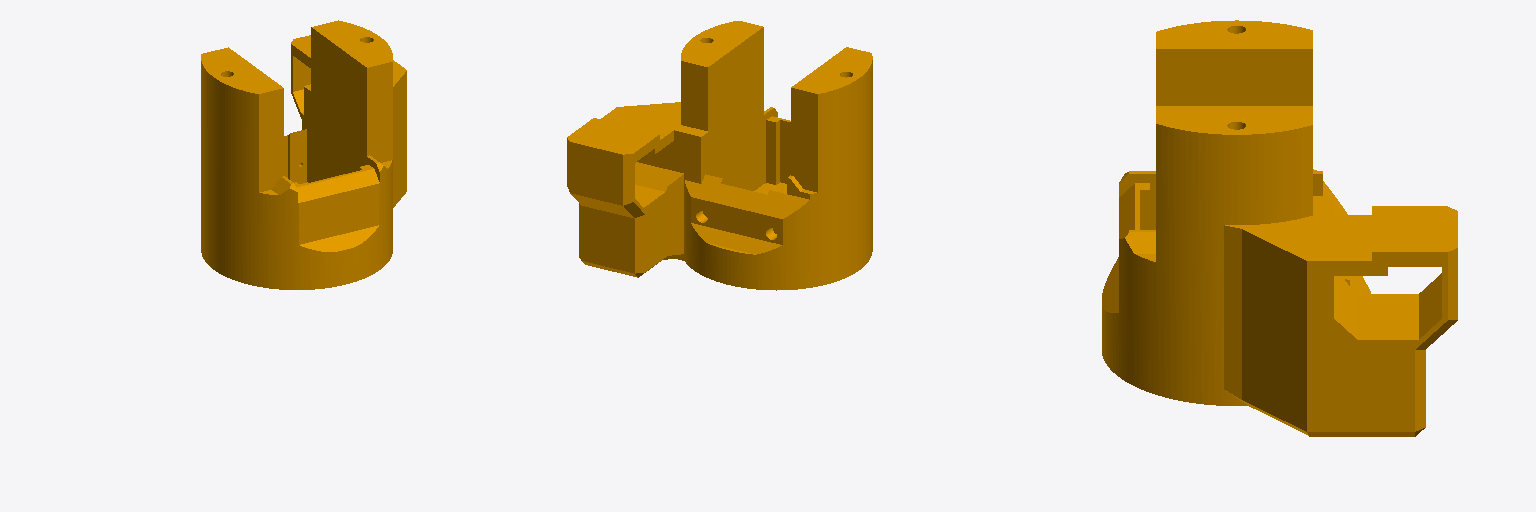
robot.urdf — mini_6dof_arm:
<?xml version="1.0"?>

<robot name="mini_6dof_arm">

  <!-- ###############################
       LINKS
       ############################### -->

  <link name="base">
    <visual>
      <origin xyz="0 0 0" rpy="0 0 0"/>
      <geometry>
        <mesh filename="stl-files/base.stl"/>
      </geometry>
    </visual>
    <collision>
      <origin xyz="0 0 0" rpy="0 0 0"/>
      <geometry>
        <mesh filename="stl-files/base.stl"/>
      </geometry>
    </collision>
    <inertial>
      <origin xyz="0 0 0" rpy="0 0 0"/>
      <mass value="0.191955"/>
      <inertia
        ixx="1.841e-4" ixy="3.5e-11" ixz="8.1195e-5"
        iyy="2.948e-4" iyz="-7.4e-11"
        izz="2.374e-4"/>
    </inertial>
  </link>

  <link name="L1">
    <visual>
      <origin xyz="0 0 0" rpy="0 0 0"/>
      <geometry>
        <mesh filename="stl-files/L1.stl"/>
      </geometry>
    </visual>
    <collision>
      <origin xyz="0 0 0" rpy="0 0 0"/>
      <geometry>
        <mesh filename="stl-files/L1.stl"/>
      </geometry>
    </collision>
    <inertial>
      <origin xyz="0 0 0" rpy="0 0 0"/>
      <mass value="0.103485"/>
      <inertia
        ixx="1.136e-4" ixy="-1.8e-11" ixz="1.6e-11"
        iyy="1.087e-4" iyz="1.3797e-6"
        izz="1.5099e-5"/>
    </inertial>
  </link>

  <link name="L2">
    <visual>
      <origin xyz="0 0 0" rpy="0 0 0"/>
      <geometry>
        <mesh filename="stl-files/L2.stl"/>
      </geometry>
    </visual>
    <collision>
      <origin xyz="0 0 0" rpy="0 0 0"/>
      <geometry>
        <mesh filename="stl-files/L2.stl"/>
      </geometry>
    </collision>
    <inertial>
      <origin xyz="0 0 0" rpy="0 0 0"/>
      <mass value="0.148586"/>
      <inertia
        ixx="1.87e-3" ixy="-1.852e-9" ixz="-5.8291e-7"
        iyy="1.853e-3" iyz="-5.4339e-6"
        izz="3.1532e-5"/>
    </inertial>
  </link>

  <link name="L3">
    <visual>
      <origin xyz="0 0 0" rpy="0 0 0"/>
      <geometry>
        <mesh filename="stl-files/L3.stl"/>
      </geometry>
    </visual>
    <collision>
      <origin xyz="0 0 0" rpy="0 0 0"/>
      <geometry>
        <mesh filename="stl-files/L3.stl"/>
      </geometry>
    </collision>
    <inertial>
      <origin xyz="0 0 0" rpy="0 0 0"/>
      <mass value="0.19883"/>
      <inertia
        ixx="5.208e-4" ixy="1.562e-4" ixz="-7.821e-4"
        iyy="2.074e-3" iyz="6.7509e-5"
        izz="1.679e-3"/>
    </inertial>
  </link>

  <link name="L4">
    <visual>
      <origin xyz="0 0 0" rpy="0 0 0"/>
      <geometry>
        <mesh filename="stl-files/L4.stl"/>
      </geometry>
    </visual>
    <collision>
      <origin xyz="0 0 0" rpy="0 0 0"/>
      <geometry>
        <mesh filename="stl-files/L4.stl"/>
      </geometry>
    </collision>
    <inertial>
      <origin xyz="0 0 0" rpy="0 0 0"/>
      <mass value="0.105559"/>
      <inertia
        ixx="1.5212e-5" ixy="1.5024e-6" ixz="-1.4847e-7"
        iyy="1.272e-4" iyz="1.924e-9"
        izz="1.322e-4"/>
    </inertial>
  </link>

  <link name="L5">
    <visual>
      <origin xyz="0 0 0" rpy="0 0 0"/>
      <geometry>
        <mesh filename="stl-files/L5.stl"/>
      </geometry>
    </visual>
    <collision>
      <origin xyz="0 0 0" rpy="0 0 0"/>
      <geometry>
        <mesh filename="stl-files/L5.stl"/>
      </geometry>
    </collision>
    <inertial>
      <origin xyz="0 0 0" rpy="0 0 0"/>
      <mass value="0.156359"/>
      <inertia
        ixx="6.9948e-5" ixy="1.022e-4" ixz="-3.9923e-5"
        iyy="6.747e-4" iyz="3.5287e-6"
        izz="7.044e-4"/>
    </inertial>
  </link>

  <!-- joint6's mounting frame. The former soldering attachment remains in
       stl-files/wrist.stl as a legacy asset; the installed tool is the gripper. -->
  <link name="wrist"/>

  <link name="tool_link"/>

  <!-- ###############################
       JOINTS
       ############################### -->

  <joint name="joint1" type="revolute">
    <parent link="base"/>
    <child  link="L1"/>
    <origin xyz="0 0 0.0843" rpy="0 0 0"/>
    <axis  xyz="0 0 1"/>
    <limit lower="-1.5708" upper="1.5708" effort="1.9123" velocity="5.4542"/>
  </joint>

  <joint name="joint2" type="revolute">
    <parent link="L1"/>
    <child  link="L2"/>
    <origin xyz="0 0 0.04315" rpy="0 0 0"/>
    <axis  xyz="0 1 0"/>
    <limit lower="-1.5708" upper="1.5708" effort="1.9123" velocity="5.4542"/>
  </joint>

  <joint name="joint3" type="revolute">
    <parent link="L2"/>
    <child  link="L3"/>
    <origin xyz="0 0 0.19715" rpy="0 0 0"/>
    <axis  xyz="0 1 0"/>
    <limit lower="-1.5708" upper="1.5708" effort="1.9123" velocity="5.4542"/>
  </joint>

  <joint name="joint4" type="revolute">
    <parent link="L3"/>
    <child  link="L4"/>
    <origin xyz="0.176556 0 0.0455" rpy="0 0 0"/>
    <axis  xyz="1 0 0"/>
    <limit lower="-3.1416" upper="3.1416" effort="1.9123" velocity="5.4542"/>
  </joint>

  <joint name="joint5" type="revolute">
    <parent link="L4"/>
    <child  link="L5"/>
    <origin xyz="0.05515 0 0" rpy="0 0 0"/>
    <axis  xyz="0 1 0"/>
    <limit lower="-1.8326" upper="2.0944" effort="1.9123" velocity="5.4542"/>
  </joint>

  <joint name="joint6" type="revolute">
    <parent link="L5"/>
    <child  link="wrist"/>
    <origin xyz="0.0773 0 0" rpy="0 0 0"/>
    <axis  xyz="1 0 0"/>
    <limit lower="-3.1416" upper="3.1416" effort="1.9123" velocity="5.4542"/>
  </joint>

  <joint name="fixed_tool" type="fixed">
    <parent link="wrist"/>
    <child  link="tool_link"/>
    <origin xyz="0.180 0 0" rpy="0 0 0"/>
  </joint>


  <!-- Gripper CAD is in millimeters; link frames and joint travel are meters.
       See assembly/gripper.md for mounting, rack ratio, and calibration scope. -->
  <material name="gripper_olive"><color rgba="0.13 0.18 0.07 1"/></material>
  <material name="gripper_black"><color rgba="0.015 0.018 0.016 1"/></material>
  <link name="gripper_base">
    <visual>
      <origin xyz="-0.0563 0.058116842685690 0" rpy="-1.570796326794897 0 -1.570796326794897"/>
      <geometry><mesh filename="stl-files/gripper/base.stl" scale="0.001 0.001 0.001"/></geometry>
      <material name="gripper_olive"/>
    </visual>
    <collision>
      <origin xyz="-0.0563 0.058116842685690 0" rpy="-1.570796326794897 0 -1.570796326794897"/>
      <geometry><mesh filename="stl-files/gripper/base.stl" scale="0.001 0.001 0.001"/></geometry>
    </collision>
    <!-- Simplified STS3215 case; detailed plastic parts use the supplied CAD. -->
    <visual>
      <origin xyz="0.032615 0 0"/>
      <geometry><box size="0.04523 0.02473 0.029"/></geometry>
      <material name="gripper_black"/>
    </visual>
  </link>
  <joint name="gripper_mount" type="fixed">
    <parent link="wrist"/><child link="gripper_base"/>
    <origin xyz="0 0 0" rpy="0 0 0"/>
  </joint>
  <link name="gripper_pinion">
    <visual>
      <origin xyz="0 0 0" rpy="3.141592653589793 0 -1.570796326794897"/>
      <geometry><mesh filename="stl-files/gripper/gear.stl" scale="0.001 0.001 0.001"/></geometry>
      <material name="gripper_olive"/>
    </visual>
    <collision>
      <origin xyz="0 0 0" rpy="3.141592653589793 0 -1.570796326794897"/>
      <geometry><mesh filename="stl-files/gripper/gear.stl" scale="0.001 0.001 0.001"/></geometry>
    </collision>
  </link>
  <joint name="gripper_drive" type="revolute">
    <parent link="gripper_base"/><child link="gripper_pinion"/>
    <origin xyz="0.045115 0 -0.018949600608384" rpy="0 0 0"/>
    <axis xyz="0 0 -1"/>
    <limit lower="0" upper="2.879793265790644" effort="1.9123" velocity="2.094395102393195"/>
  </joint>
  <link name="gripper_primary">
    <visual>
      <origin xyz="0.030346030695402 -0.030591211627075 -0.023449600608384" rpy="-1.570796326794897 0 -1.570796326794897"/>
      <geometry><mesh filename="stl-files/gripper/primary-rack.stl" scale="0.001 0.001 0.001"/></geometry>
      <material name="gripper_black"/>
    </visual>
    <collision>
      <origin xyz="0.030346030695402 -0.030591211627075 -0.023449600608384" rpy="-1.570796326794897 0 -1.570796326794897"/>
      <geometry><mesh filename="stl-files/gripper/primary-rack.stl" scale="0.001 0.001 0.001"/></geometry>
    </collision>
    <visual>
      <origin xyz="0.030346030695402 -0.030591211627075 -0.023449600608384" rpy="-1.570796326794897 0 -1.570796326794897"/>
      <geometry><mesh filename="stl-files/gripper/primary-finger.stl" scale="0.001 0.001 0.001"/></geometry>
      <material name="gripper_olive"/>
    </visual>
    <collision>
      <origin xyz="0.030346030695402 -0.030591211627075 -0.023449600608384" rpy="-1.570796326794897 0 -1.570796326794897"/>
      <geometry><mesh filename="stl-files/gripper/primary-finger.stl" scale="0.001 0.001 0.001"/></geometry>
    </collision>
    <visual>
      <origin xyz="0.030346030695402 -0.030591211627075 -0.023449600608384" rpy="-1.570796326794897 0 -1.570796326794897"/>
      <geometry><mesh filename="stl-files/gripper/end-stop.stl" scale="0.001 0.001 0.001"/></geometry>
      <material name="gripper_black"/>
    </visual>
    <collision>
      <origin xyz="0.030346030695402 -0.030591211627075 -0.023449600608384" rpy="-1.570796326794897 0 -1.570796326794897"/>
      <geometry><mesh filename="stl-files/gripper/end-stop.stl" scale="0.001 0.001 0.001"/></geometry>
    </collision>
  </link>
  <joint name="gripper_primary_slide" type="prismatic">
    <parent link="gripper_base"/><child link="gripper_primary"/>
    <origin xyz="0 0 0" rpy="0 0 0"/>
    <axis xyz="0 1 0"/>
    <limit lower="0" upper="0.040317105721069" effort="136.592857142857" velocity="0.029321531433505"/>
    <!-- 14-tooth, module-2 pinion: 14 mm of rack travel per radian. -->
    <mimic joint="gripper_drive" multiplier="0.014" offset="0"/>
  </joint>
  <link name="gripper_secondary">
    <visual>
      <origin xyz="0.059884092086197 0.030590989589690 -0.023449600608384" rpy="-1.570796326794897 0 1.570796326794897"/>
      <geometry><mesh filename="stl-files/gripper/secondary-rack.stl" scale="0.001 0.001 0.001"/></geometry>
      <material name="gripper_black"/>
    </visual>
    <collision>
      <origin xyz="0.059884092086197 0.030590989589690 -0.023449600608384" rpy="-1.570796326794897 0 1.570796326794897"/>
      <geometry><mesh filename="stl-files/gripper/secondary-rack.stl" scale="0.001 0.001 0.001"/></geometry>
    </collision>
    <visual>
      <origin xyz="0.059884092086197 0.030590989589690 -0.023449600608384" rpy="-1.570796326794897 0 1.570796326794897"/>
      <geometry><mesh filename="stl-files/gripper/secondary-finger.stl" scale="0.001 0.001 0.001"/></geometry>
      <material name="gripper_olive"/>
    </visual>
    <collision>
      <origin xyz="0.059884092086197 0.030590989589690 -0.023449600608384" rpy="-1.570796326794897 0 1.570796326794897"/>
      <geometry><mesh filename="stl-files/gripper/secondary-finger.stl" scale="0.001 0.001 0.001"/></geometry>
    </collision>
  </link>
  <joint name="gripper_secondary_slide" type="prismatic">
    <parent link="gripper_base"/><child link="gripper_secondary"/>
    <origin xyz="0 0 0" rpy="0 0 0"/>
    <axis xyz="0 -1 0"/>
    <limit lower="0" upper="0.040317105721069" effort="136.592857142857" velocity="0.029321531433505"/>
    <!-- 14-tooth, module-2 pinion: 14 mm of rack travel per radian. -->
    <mimic joint="gripper_drive" multiplier="0.014" offset="0"/>
  </joint>
  <!-- Geometric fingertip frame, separate from the existing controller TCP. -->
  <link name="gripper_tip"/>
  <joint name="fixed_gripper_tip" type="fixed">
    <parent link="gripper_base"/><child link="gripper_tip"/>
    <origin xyz="0.146915092086197 0 0" rpy="0 0 0"/>
  </joint>

</robot>

--- Facts derived from the render (not from the file) ---
3 views of the same robot in one strip: view 1: azimuth 30°, elevation 25°; view 2: azimuth 150°, elevation 25°; view 3: azimuth 270°, elevation 25° (orthographic).
Model mini_6dof_arm with 13 links and 12 joints (7 revolute, 2 prismatic, 3 fixed), rooted at base, posed every joint at zero.
Visible links, largest first — view 1: base; view 2: base; view 3: base.
Link boxes in pixels (box(x1,y1,x2,y2)): base: box(201, 20, 406, 289); base: box(567, 21, 872, 290); base: box(1102, 20, 1457, 436).
Bounding box of the posed robot: 98.4 × 65.95 × 111 m (x, y, z).
8 mesh visuals loaded from 13 distinct referenced files (7 binary STL); not drawn: 5 (reference not matched to a file when rendering).
